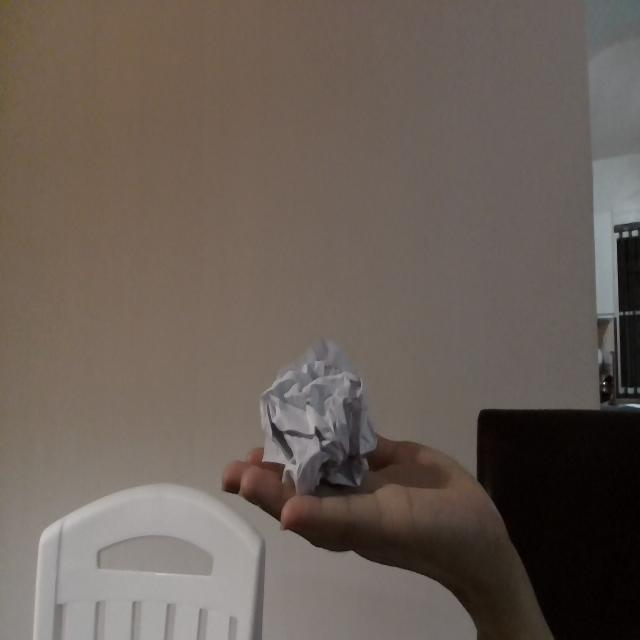crumpled_paper: (258, 328, 380, 501)
